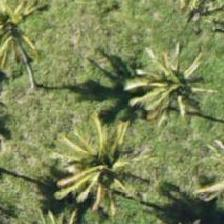coconut_tree: (45, 124, 135, 214), (128, 48, 218, 138), (0, 0, 58, 78)
